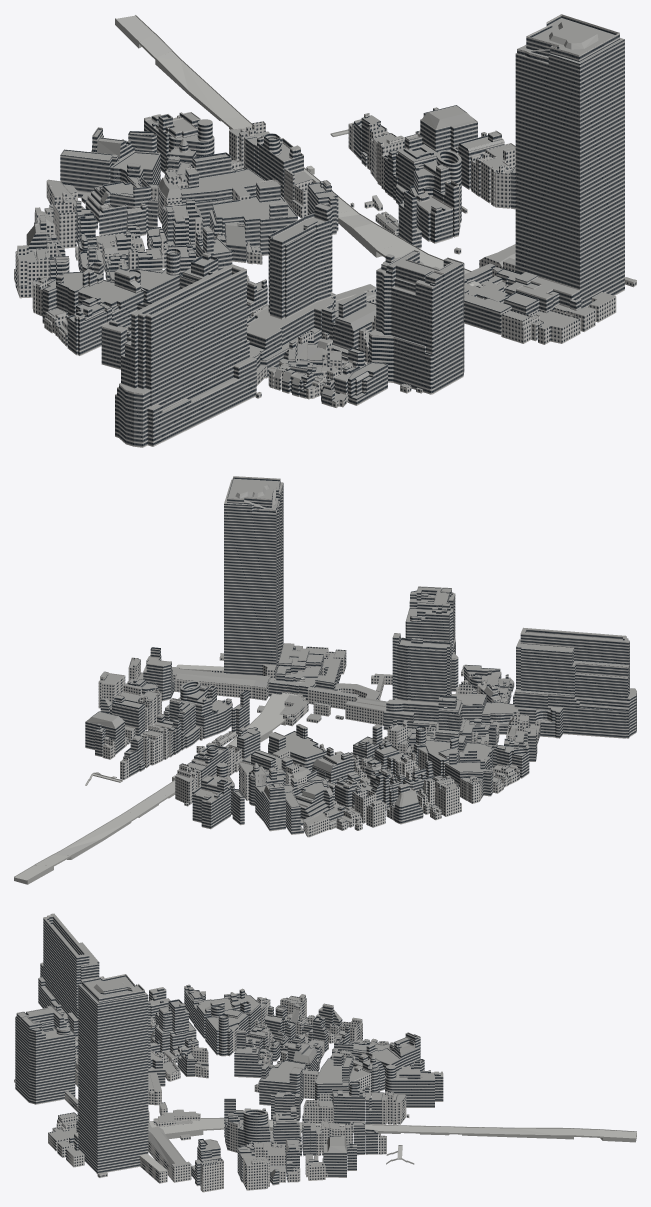
The model's file is context_core.glb.
3 views of the same model, one above another, from view 1: azimuth 30°, elevation 25°; view 2: azimuth 150°, elevation 25°; view 3: azimuth 270°, elevation 25° (orthographic). The views are drawn at different scales.
Parts seen in each view (by area): view 1: core__ctx_wall_ribbon_a, core__ctx_wall_ribbon_b, core__ctx_roof, core__ctx_wall_punched_a, core__ctx_wall_punched_b, core__ctx_structure, station__ctx_roof, station__ctx_wall_ribbon_b; view 2: core__ctx_wall_ribbon_a, core__ctx_wall_ribbon_b, core__ctx_roof, core__ctx_wall_punched_a, core__ctx_wall_punched_b, core__ctx_structure, station__ctx_roof, station__ctx_wall_ribbon_b, station__ctx_wall_punched_a, station__ctx_wall_punched_b; view 3: core__ctx_wall_ribbon_b, core__ctx_wall_ribbon_a, core__ctx_roof, core__ctx_wall_punched_a, core__ctx_wall_punched_b, core__ctx_structure, station__ctx_roof, station__ctx_wall_punched_b.
Boxes of the visible parts, <box> form: core__ctx_wall_ribbon_a: <box>26,105,504,447</box>; core__ctx_wall_ribbon_b: <box>46,14,624,405</box>; core__ctx_roof: <box>14,14,636,414</box>; core__ctx_wall_punched_a: <box>14,123,636,407</box>; core__ctx_wall_punched_b: <box>32,121,616,398</box>; core__ctx_structure: <box>115,15,484,303</box>; station__ctx_roof: <box>396,244,580,312</box>; station__ctx_wall_ribbon_b: <box>464,265,581,334</box>; core__ctx_wall_ribbon_a: <box>85,586,636,834</box>; core__ctx_wall_ribbon_b: <box>100,476,536,831</box>; core__ctx_roof: <box>86,476,636,830</box>; core__ctx_wall_punched_a: <box>102,649,540,837</box>; core__ctx_wall_punched_b: <box>98,646,537,830</box>; core__ctx_structure: <box>14,664,305,884</box>; station__ctx_roof: <box>172,643,358,719</box>; station__ctx_wall_ribbon_b: <box>268,643,341,700</box>; station__ctx_wall_punched_a: <box>283,689,359,726</box>; station__ctx_wall_punched_b: <box>172,668,275,700</box>; core__ctx_wall_ribbon_b: <box>75,974,424,1186</box>; core__ctx_wall_ribbon_a: <box>15,914,443,1180</box>; core__ctx_roof: <box>14,913,443,1177</box>; core__ctx_wall_punched_a: <box>56,994,406,1192</box>; core__ctx_wall_punched_b: <box>14,998,409,1190</box>; core__ctx_structure: <box>139,1072,636,1172</box>; station__ctx_roof: <box>69,1102,200,1166</box>; station__ctx_wall_punched_b: <box>148,1140,191,1182</box>.
Bounding box in the file's own units: 555 × 232 × 737.
6 materials, 4 textured.
